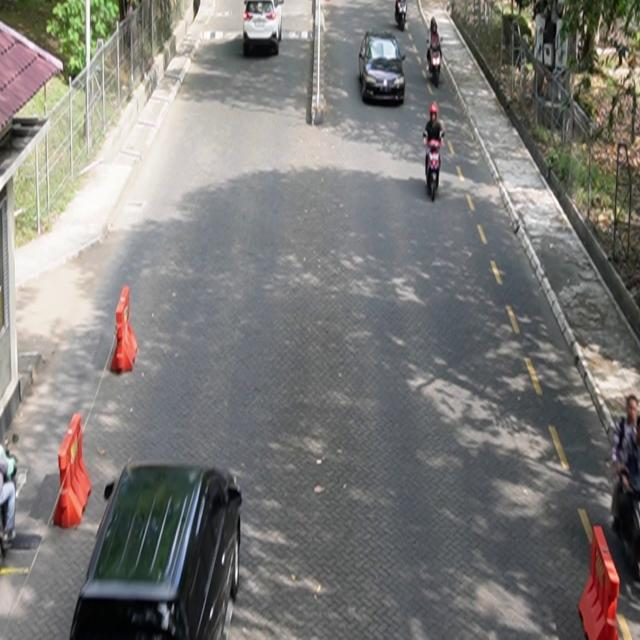car: (70, 461, 243, 640), (359, 31, 407, 106), (243, 1, 285, 57)
